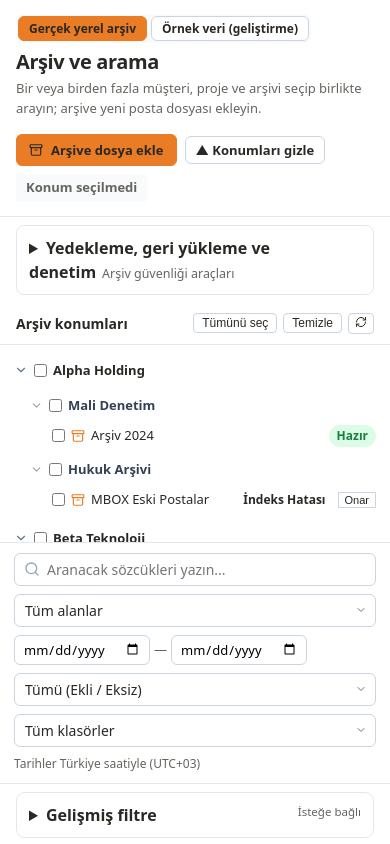
Scenario: TASK-018 Local Archive and Search Frontend Tests › preserves mobile control container semantic structure and DOM order without layout pixel mocking
The image size is (390, 844).
Expected: the text "Alpha Holding" is shown, [53,361,145,379]
Toggle action updates aria-expanded and applies mobile-hidden class
Click the button with test id "mobile-location-toggle-btn" at (255, 150), box [184,136,325,164]
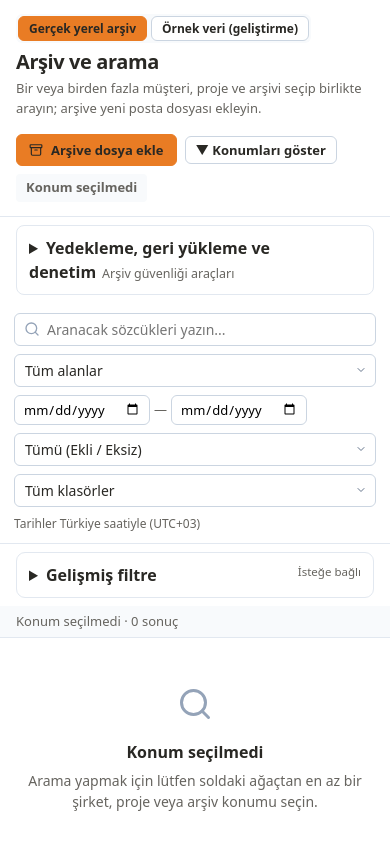
Expected: the button with test id "mobile-location-toggle-btn" is collapsed
Click the button with test id "mobile-location-toggle-btn" at (261, 150), box [184,136,337,164]
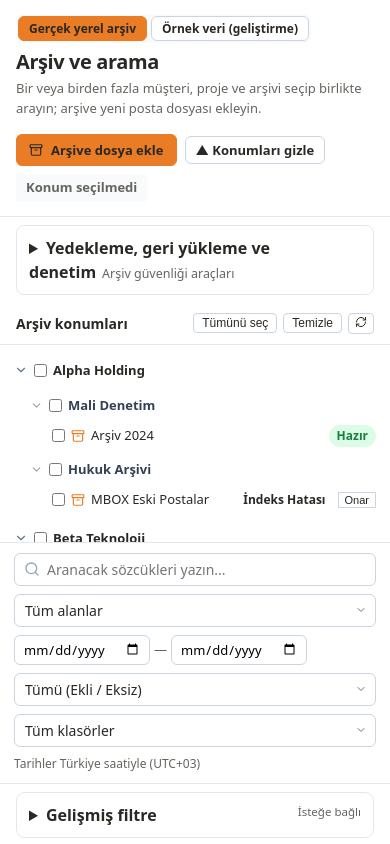
Expected: the button with test id "mobile-location-toggle-btn" is expanded, [184,136,325,164]
